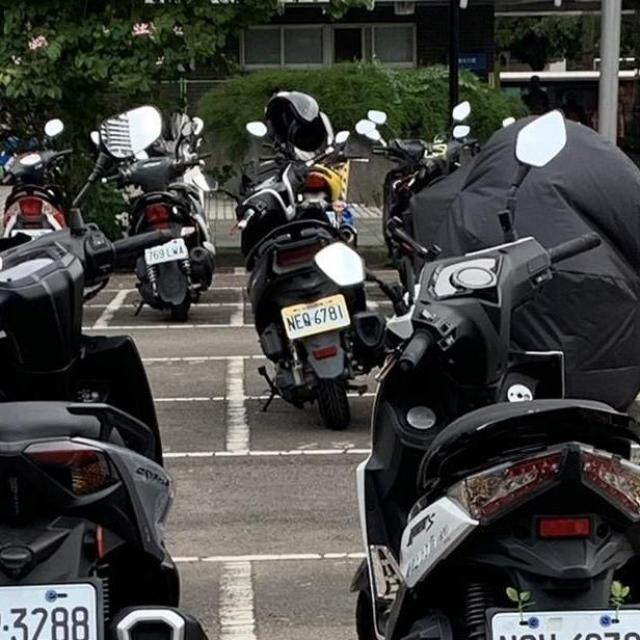W: (277, 293, 354, 342), (142, 237, 191, 270)
